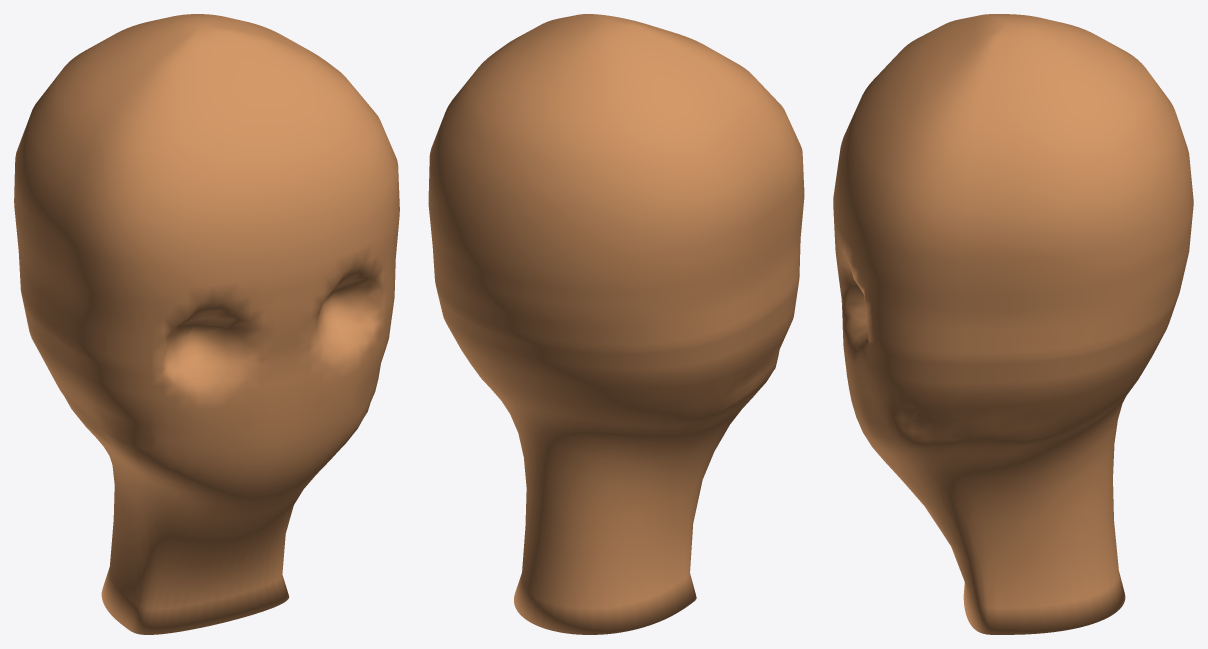
The model's file is base-feminina-02.glb.
3 renders of one model, left to right at view 1: azimuth 30°, elevation 25°; view 2: azimuth 150°, elevation 25°; view 3: azimuth 270°, elevation 25°, orthographic. The views are drawn at different scales.
Visible parts, largest first — view 1: RCL_Base_Feminina_02; view 2: RCL_Base_Feminina_02; view 3: RCL_Base_Feminina_02.
Boxes of the visible parts, box(x1,y1,x2,y2) form: RCL_Base_Feminina_02: box(14, 14, 399, 634); RCL_Base_Feminina_02: box(428, 14, 804, 634); RCL_Base_Feminina_02: box(833, 14, 1193, 634).
Size of the model in its own units: 0.174 by 0.305 by 0.174.
